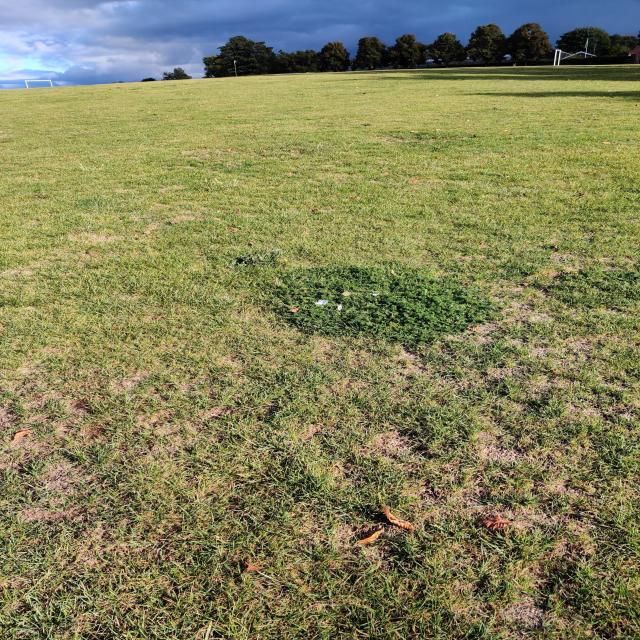litter: (312, 296, 333, 307), (339, 288, 357, 299), (336, 304, 344, 313)
